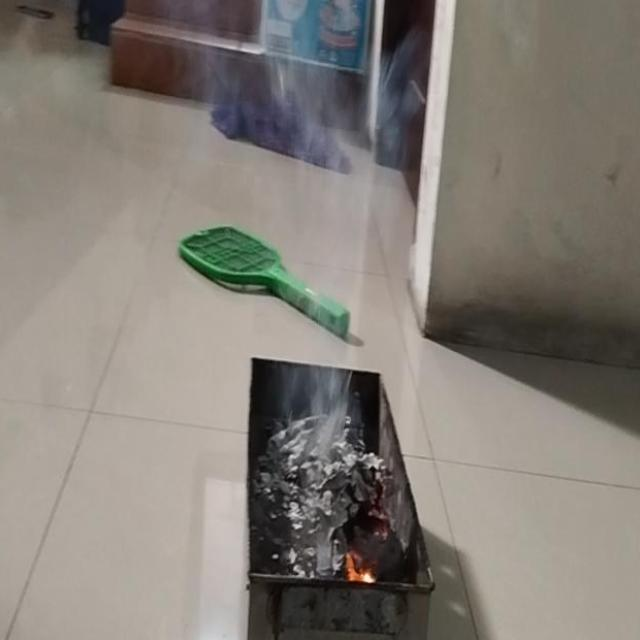fire: (185, 25, 416, 188), (279, 322, 353, 464)
